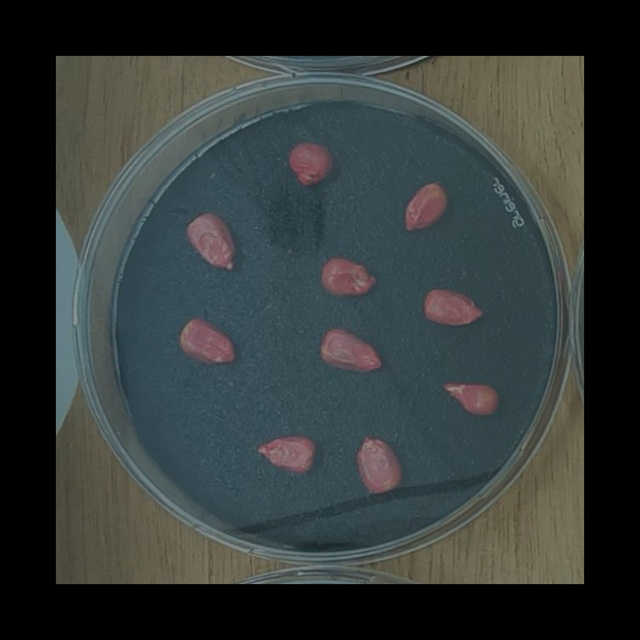Zea mays: (314, 321, 388, 380), (179, 207, 239, 277), (350, 430, 407, 499), (173, 314, 240, 369), (418, 282, 490, 332), (252, 429, 320, 480), (399, 176, 454, 237), (315, 252, 382, 302), (436, 374, 504, 422), (282, 137, 339, 193)
